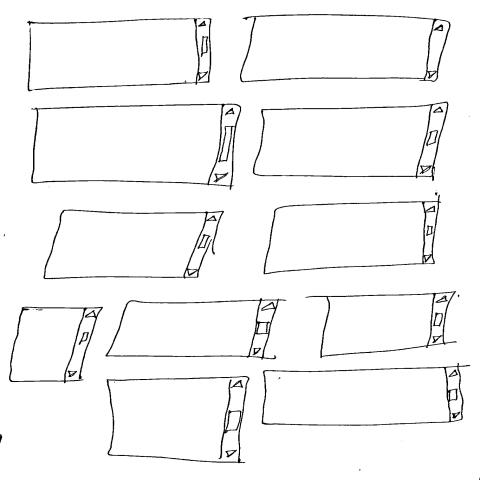Textarea: (31, 103, 241, 191), (253, 102, 448, 180), (234, 14, 450, 82), (263, 193, 443, 274), (27, 18, 211, 91), (262, 362, 470, 426), (43, 209, 224, 279), (107, 376, 249, 463), (105, 298, 286, 360), (305, 291, 456, 357), (9, 306, 103, 383)
